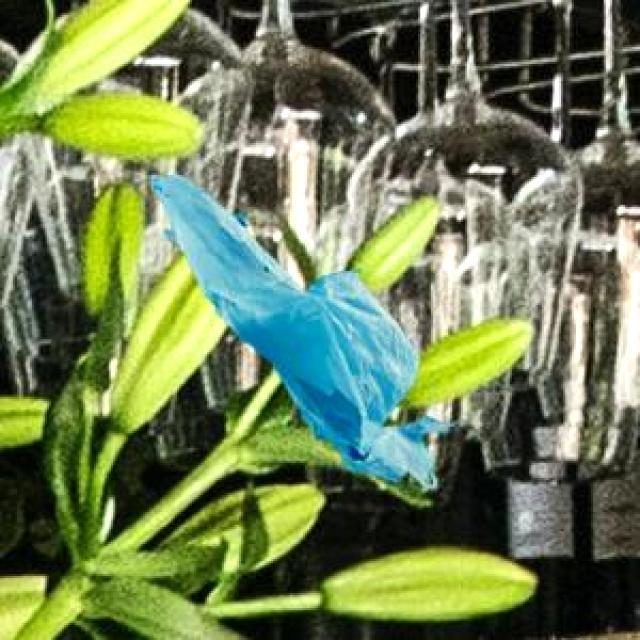Plastic_Bag: (148, 172, 449, 486)
